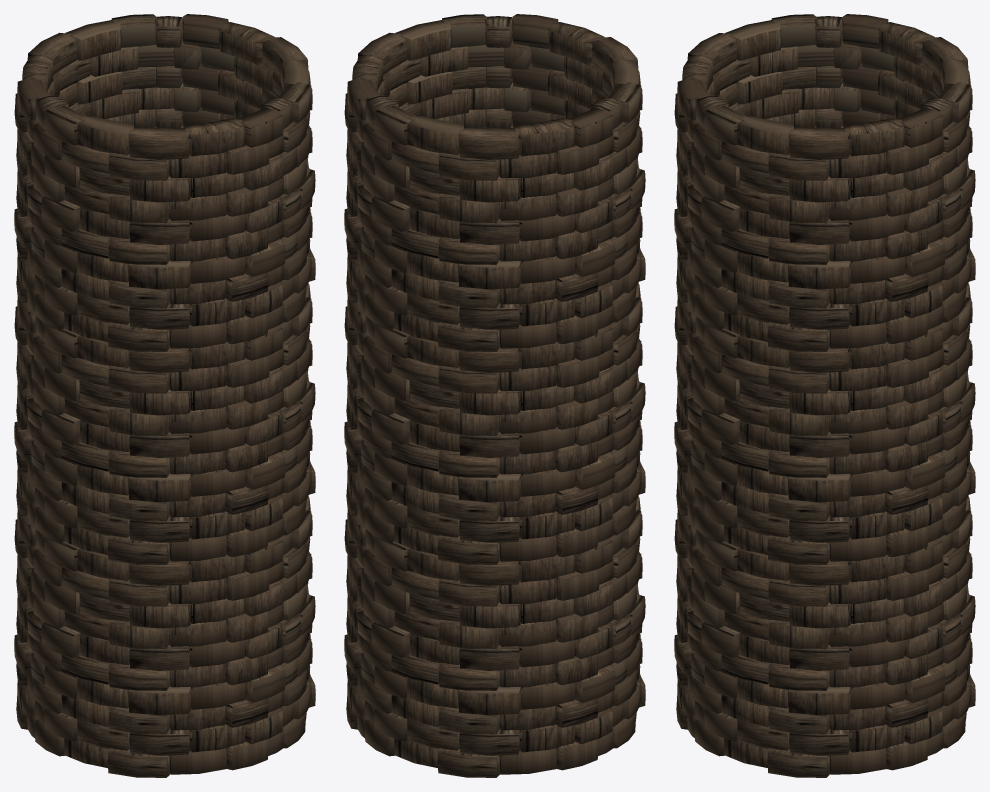
The model's file is Torre.fbx.
The picture shows the model from 3 angles, left to right: view 1: azimuth 30°, elevation 25°; view 2: azimuth 150°, elevation 25°; view 3: azimuth 270°, elevation 25°; orthographic projection.
Parts seen in each view (by area): view 1: Object104; view 2: Object104; view 3: Object104.
Part boxes in pixels (x1,y1,x2,y2): Object104: [14, 14, 315, 777]; Object104: [344, 14, 645, 777]; Object104: [674, 14, 975, 777].
Size of the model in its own units: 565 by 1315 by 559.
